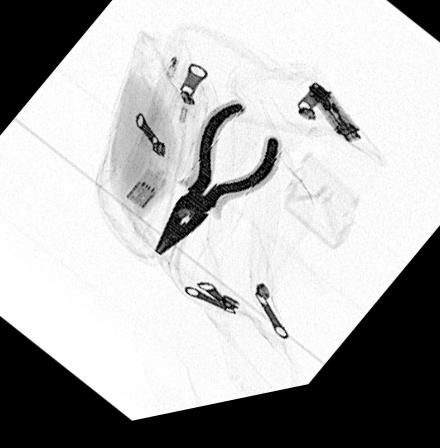Pliers: (153, 109, 282, 262)
